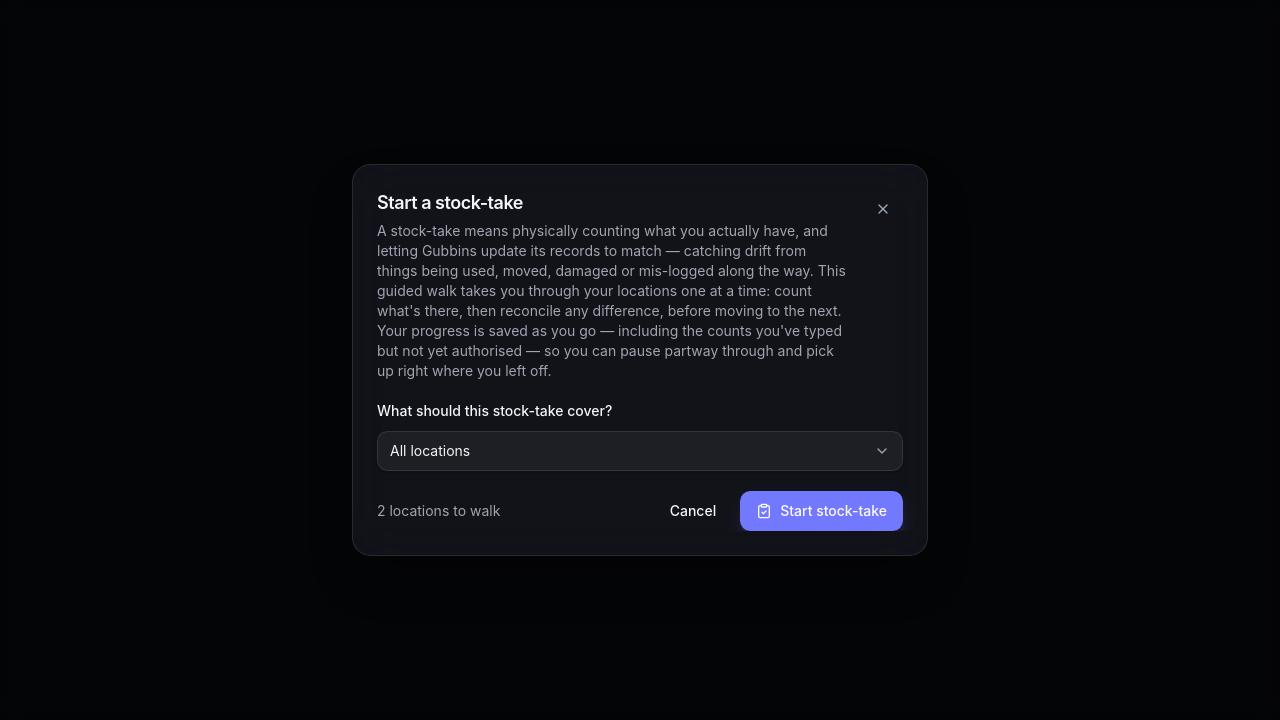
Test: AuditDayDialog — guided walk › skips a location and records it in the summary
Click the button with test id "audit-start" at [822, 511], box [740, 491, 903, 531]
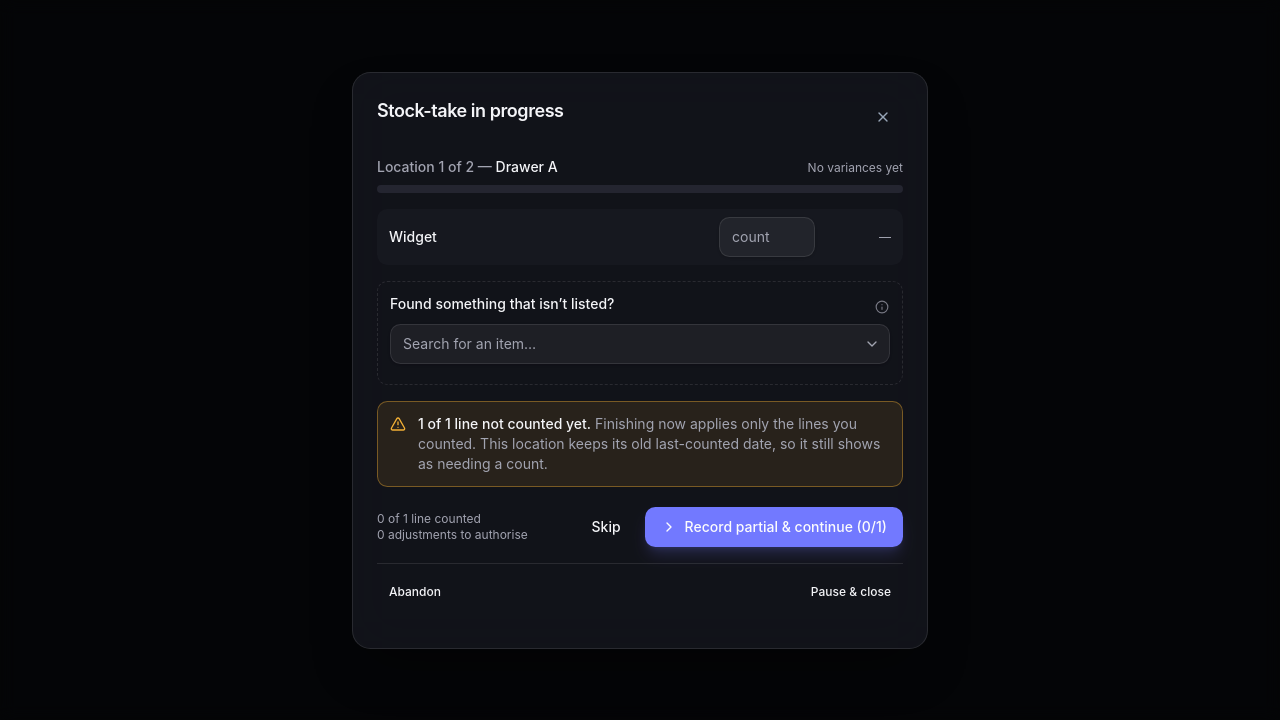
Click the button with test id "audit-skip" at [606, 526], box [576, 506, 637, 546]
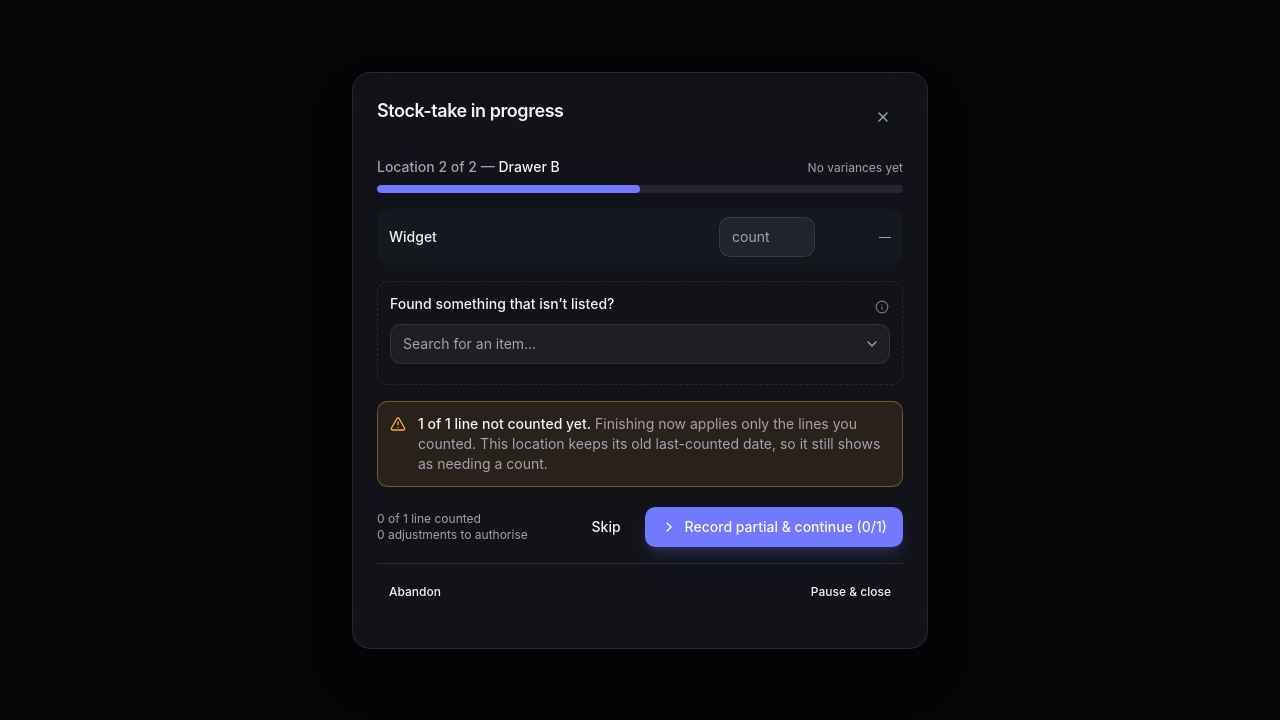
Result: the element with test id "audit-step-heading" shows "Drawer B" at [498, 158, 560, 174]
Type "10" into the number field with placeholder "count" at [767, 236], box [719, 216, 815, 256]
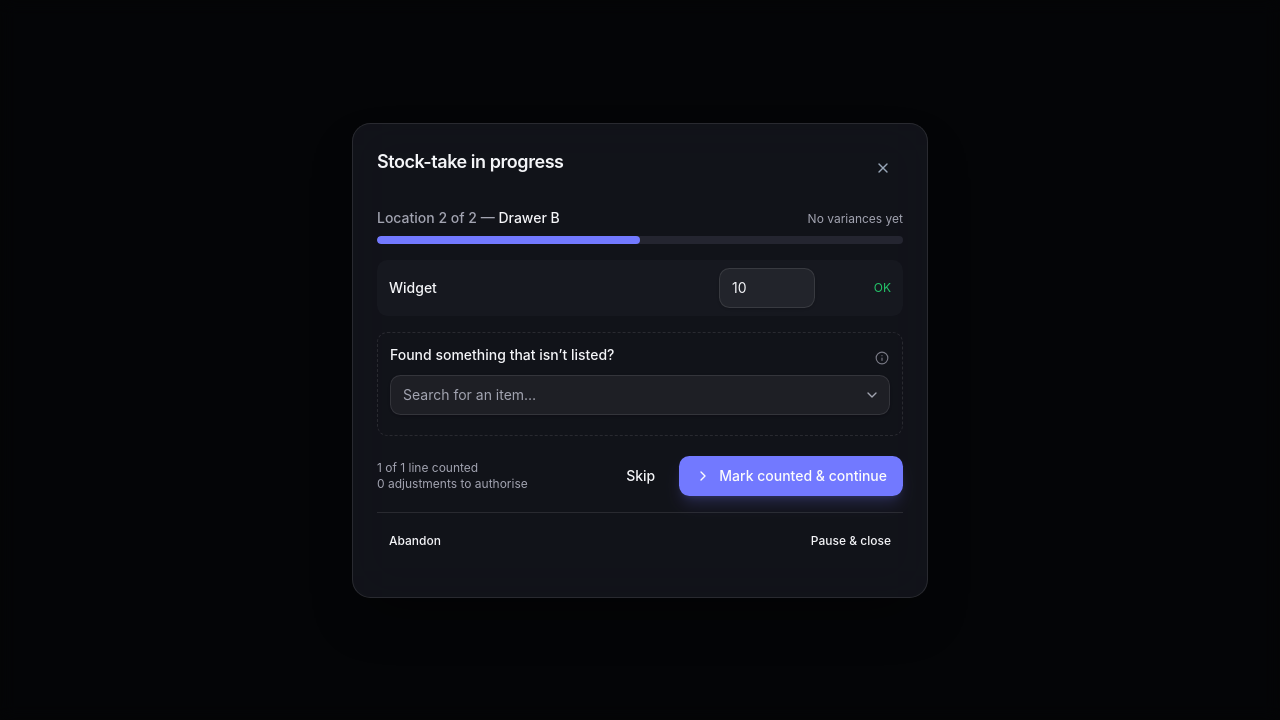
Click the button with test id "audit-continue" at [791, 476], box [679, 456, 903, 496]
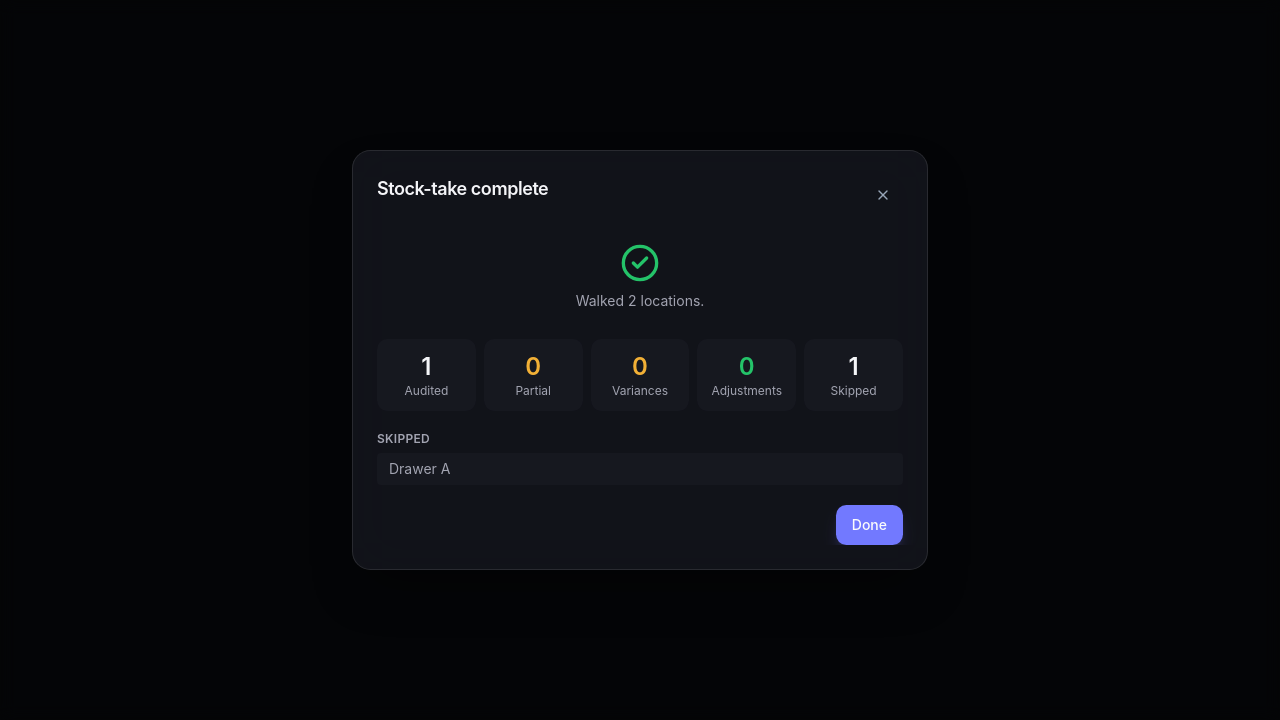
Result: the text with test id "audit-stat-audited" reads "1" at [421, 352, 432, 381]
Result: the text with test id "audit-stat-skipped" reads "1" at [848, 352, 859, 381]
Result: the element with test id "audit-summary" is shown at [377, 235, 903, 545]
